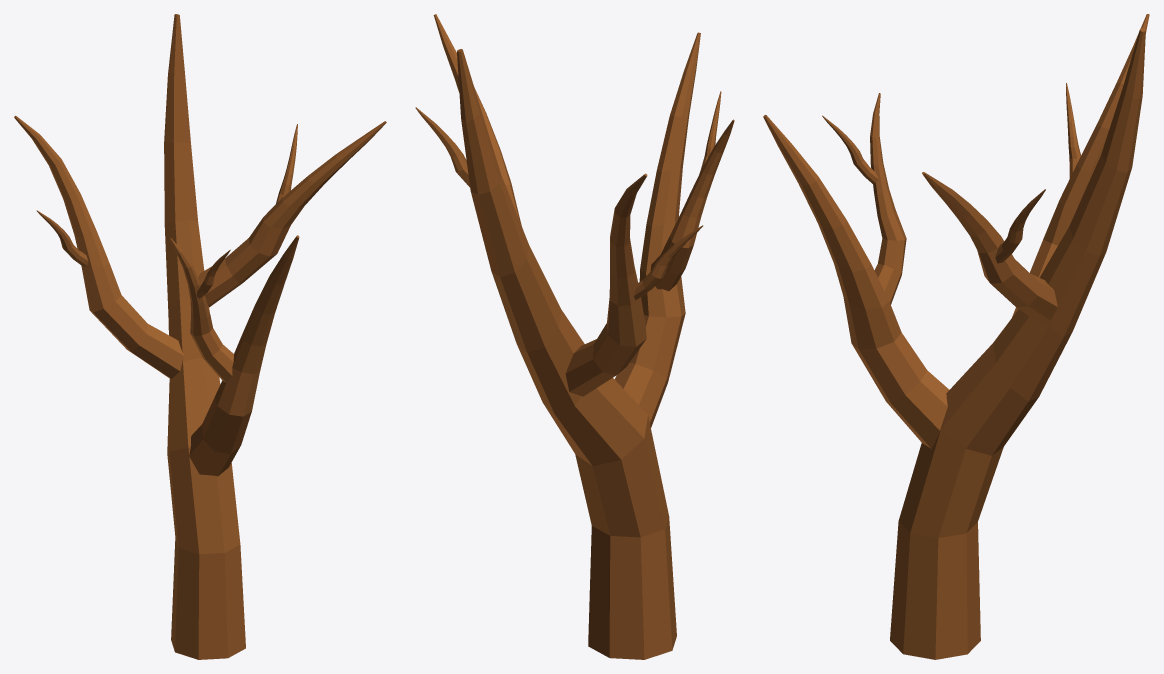
File: bush.fbx
The picture shows the model from 3 angles, left to right: view 1: azimuth 30°, elevation 25°; view 2: azimuth 150°, elevation 25°; view 3: azimuth 270°, elevation 25°; orthographic projection. The views are drawn at different scales.
Parts seen in each view (by area): view 1: bush; view 2: bush; view 3: bush.
Boxes of the visible parts, bbox=[...] form: bush: bbox=[14, 14, 386, 659]; bush: bbox=[415, 14, 734, 659]; bush: bbox=[763, 14, 1149, 659].
Size of the model in its own units: 2.08 by 3.78 by 2.06.
